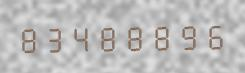eight: (17, 21, 42, 54), (95, 20, 120, 53), (147, 19, 172, 52), (121, 20, 146, 52)
four: (69, 20, 94, 53)
nine: (173, 19, 198, 51)
six: (199, 18, 224, 51)
three: (43, 21, 68, 53)
